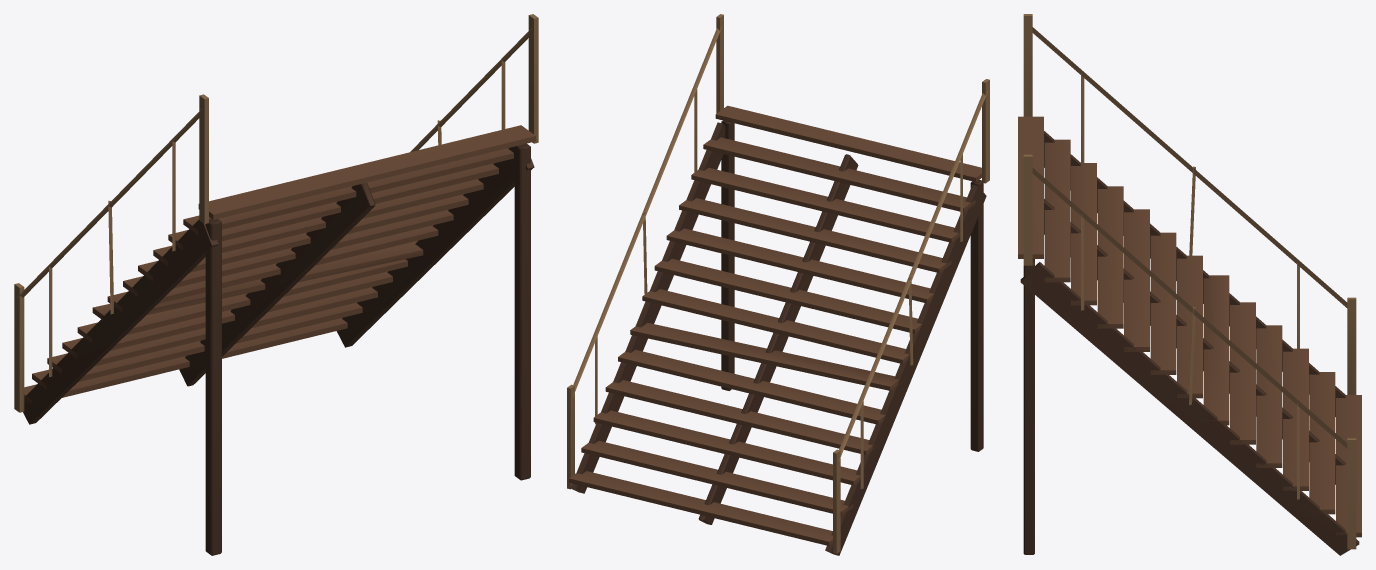
File: qb_grandstairs_wood_lod1.glb
3 views of the same model, side by side, from view 1: azimuth 30°, elevation 25°; view 2: azimuth 150°, elevation 25°; view 3: azimuth 270°, elevation 25° (orthographic). The views are drawn at different scales.
Visible parts, largest first — view 1: qb_grandstairs_wood; view 2: qb_grandstairs_wood; view 3: qb_grandstairs_wood.
Part boxes in pixels (left/top/right/bottom): qb_grandstairs_wood: left=14, top=14, right=538, bottom=555; qb_grandstairs_wood: left=567, top=14, right=989, bottom=555; qb_grandstairs_wood: left=1018, top=14, right=1361, bottom=555.
Size of the model in its own units: 2.94 by 3.86 by 3.
